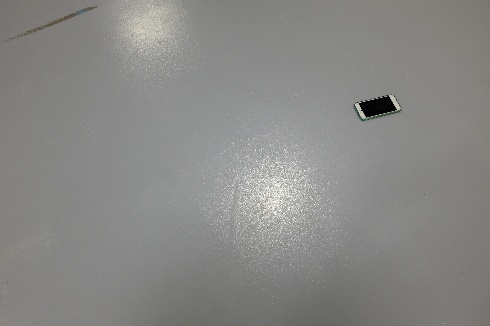phone: (353, 90, 402, 122)
